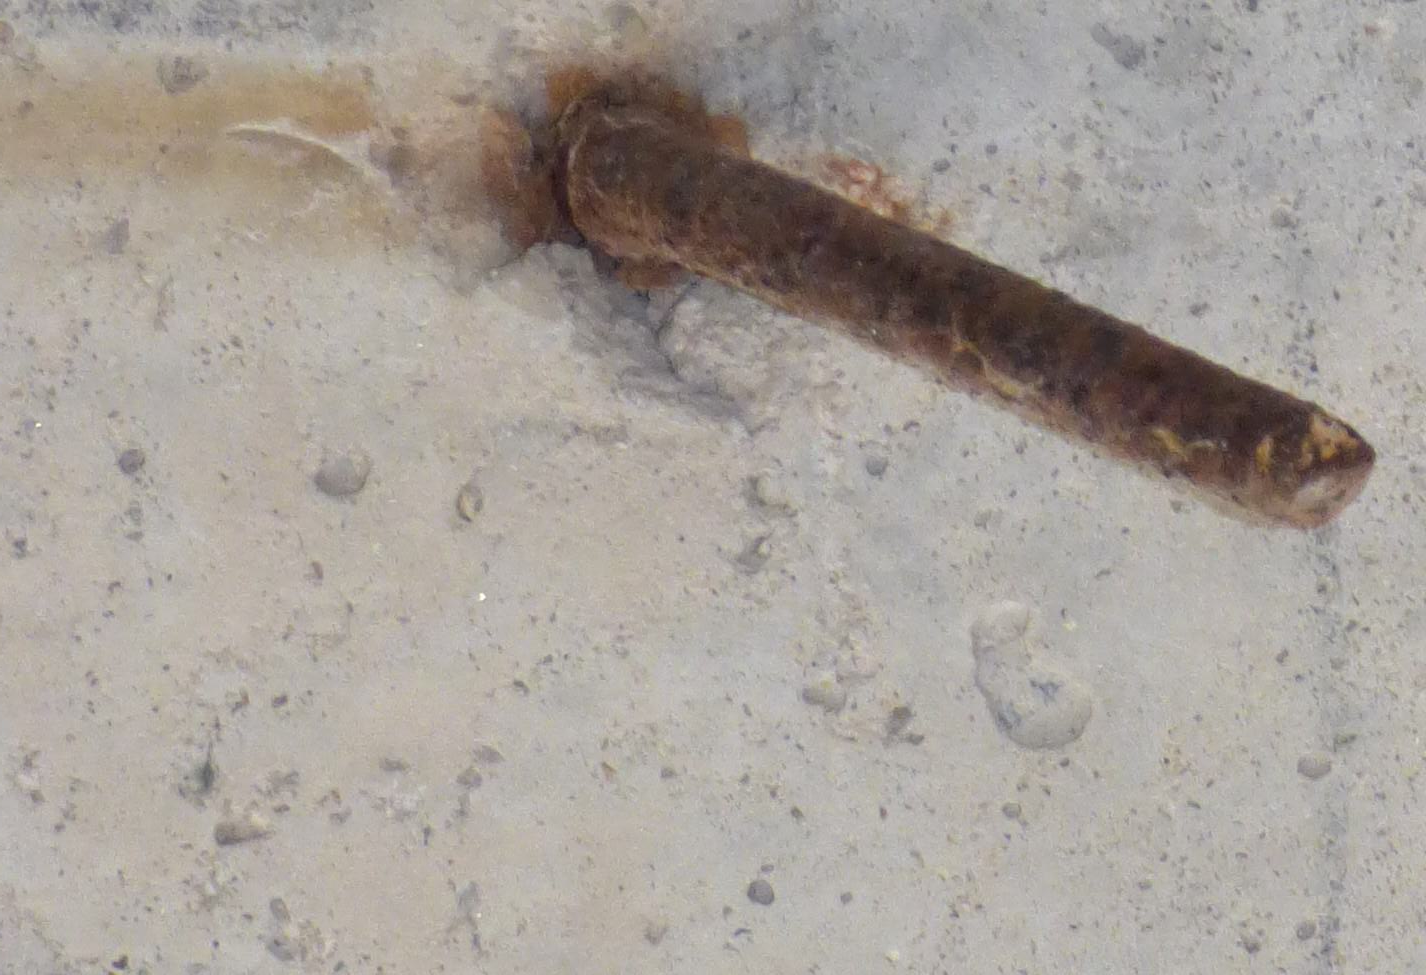Exposed reinforcement: (567, 109, 1377, 533)
